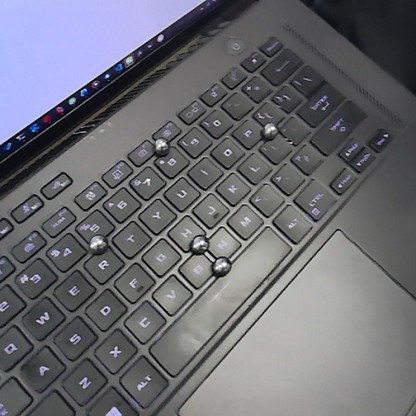ironball: (86, 232, 112, 258), (207, 253, 232, 279), (185, 232, 212, 255), (150, 135, 170, 155), (260, 120, 279, 139)
